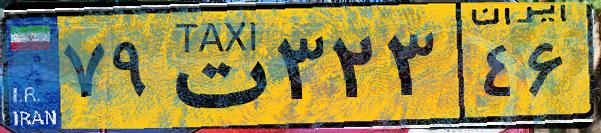2: (330, 28, 385, 110)
3: (270, 28, 330, 110), (385, 28, 445, 110)
4: (475, 38, 525, 113)
6: (525, 38, 570, 115)
7: (57, 26, 110, 100)
9: (110, 28, 158, 98)
ت: (158, 12, 270, 120)
